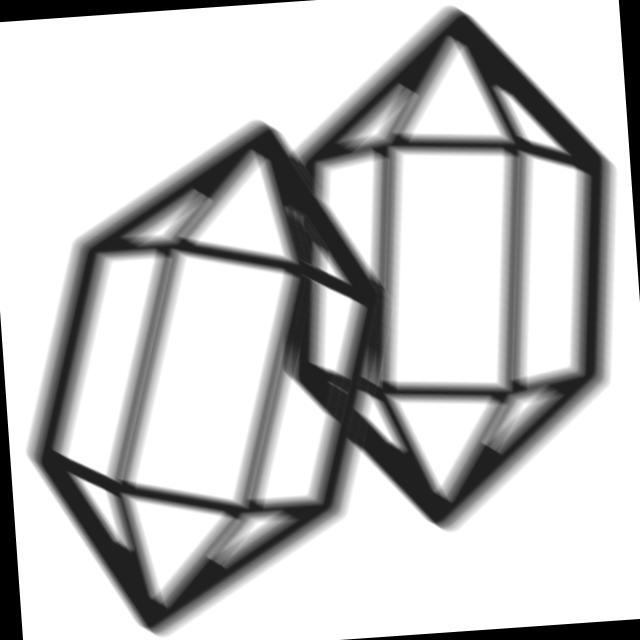crystal: (219, 1, 640, 555), (1, 103, 412, 640)
